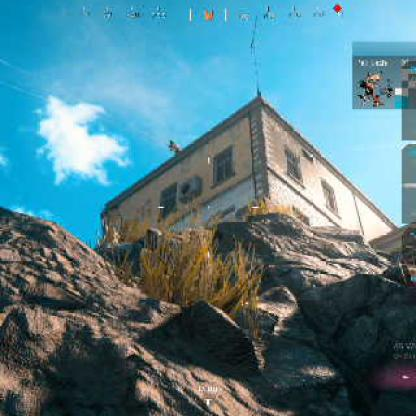enemy: (166, 140, 181, 154)
